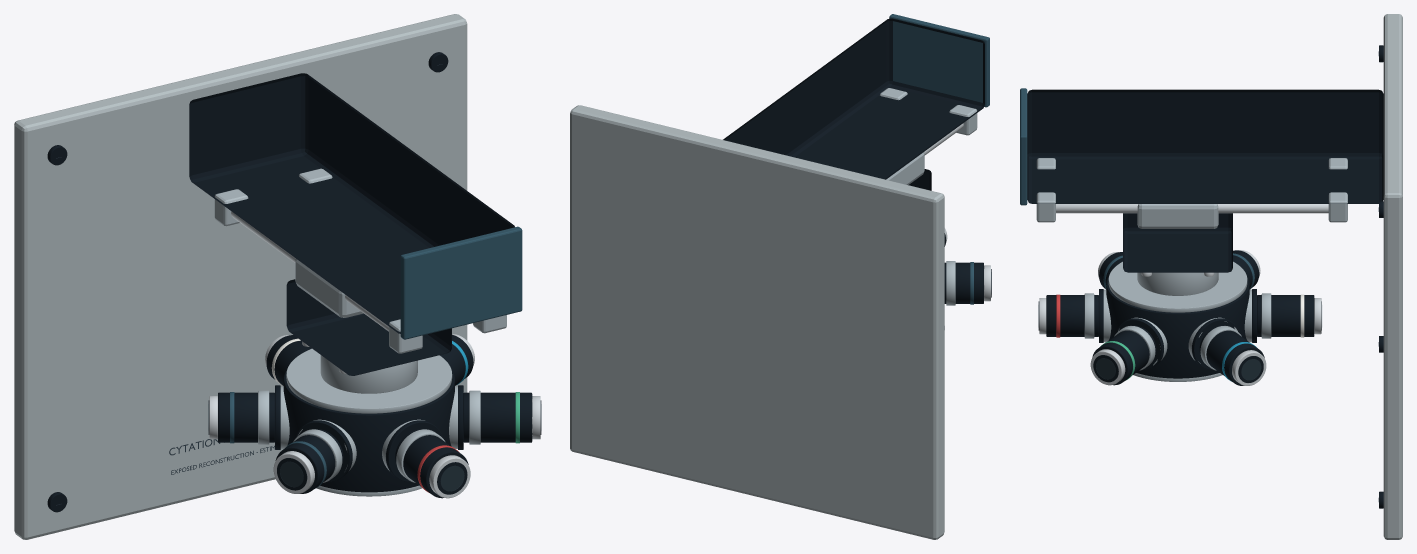
The model's file is biotek_cytation_microscope_module.glb.
3 renders of one model, left to right at view 1: azimuth 30°, elevation 25°; view 2: azimuth 150°, elevation 25°; view 3: azimuth 270°, elevation 25°, orthographic. The views are drawn at different scales.
Parts seen in each view (by area): view 1: Estimated mounting flange, Estimated stationary focus column, Focus carriage, Focus column cap, Focus guide rail, Objective 1 4X front glass; view 2: Estimated mounting flange, Estimated stationary focus column, Focus column cap, Focus carriage; view 3: Estimated stationary focus column, Focus carriage, Estimated mounting flange, Focus guide rail, Focus column cap, Objective 1 4X front glass.
Boxes of the visible parts, x1,y1,x2,y2 form: Estimated mounting flange: (14, 14, 467, 539); Estimated stationary focus column: (47, 52, 541, 512); Focus carriage: (214, 168, 506, 496); Focus column cap: (230, 226, 522, 488); Focus guide rail: (209, 211, 540, 498); Objective 1 4X front glass: (280, 462, 464, 490); Estimated mounting flange: (570, 105, 944, 539); Estimated stationary focus column: (723, 18, 991, 303); Focus column cap: (889, 14, 989, 304); Focus carriage: (880, 88, 977, 305); Estimated stationary focus column: (1027, 45, 1383, 508); Focus carriage: (1036, 158, 1347, 381); Estimated mounting flange: (1383, 14, 1402, 539); Focus guide rail: (1039, 204, 1328, 385); Focus column cap: (1020, 88, 1254, 289); Objective 1 4X front glass: (1096, 358, 1260, 379).
Size of the model in its own units: 0.18 by 0.16 by 0.16.
